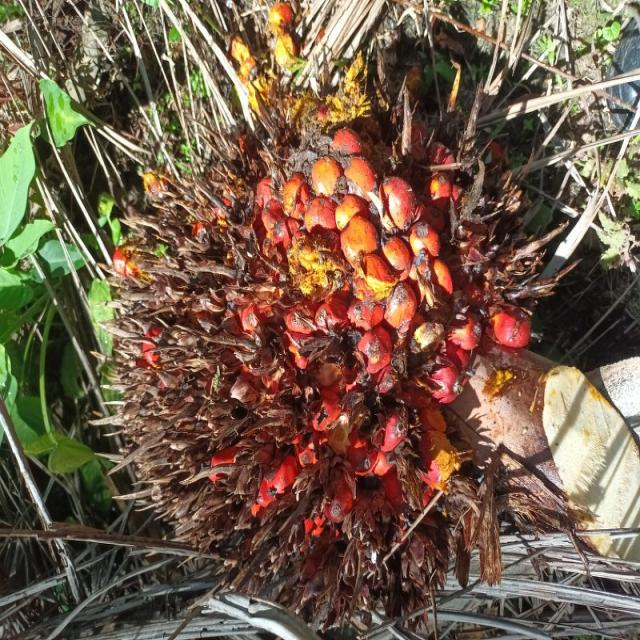fraksi 3: (5, 123, 480, 640)
